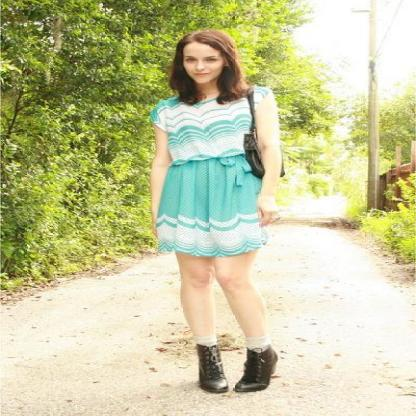bag: (239, 108, 265, 182)
dress: (150, 85, 278, 260)
shoe: (196, 344, 276, 393)
